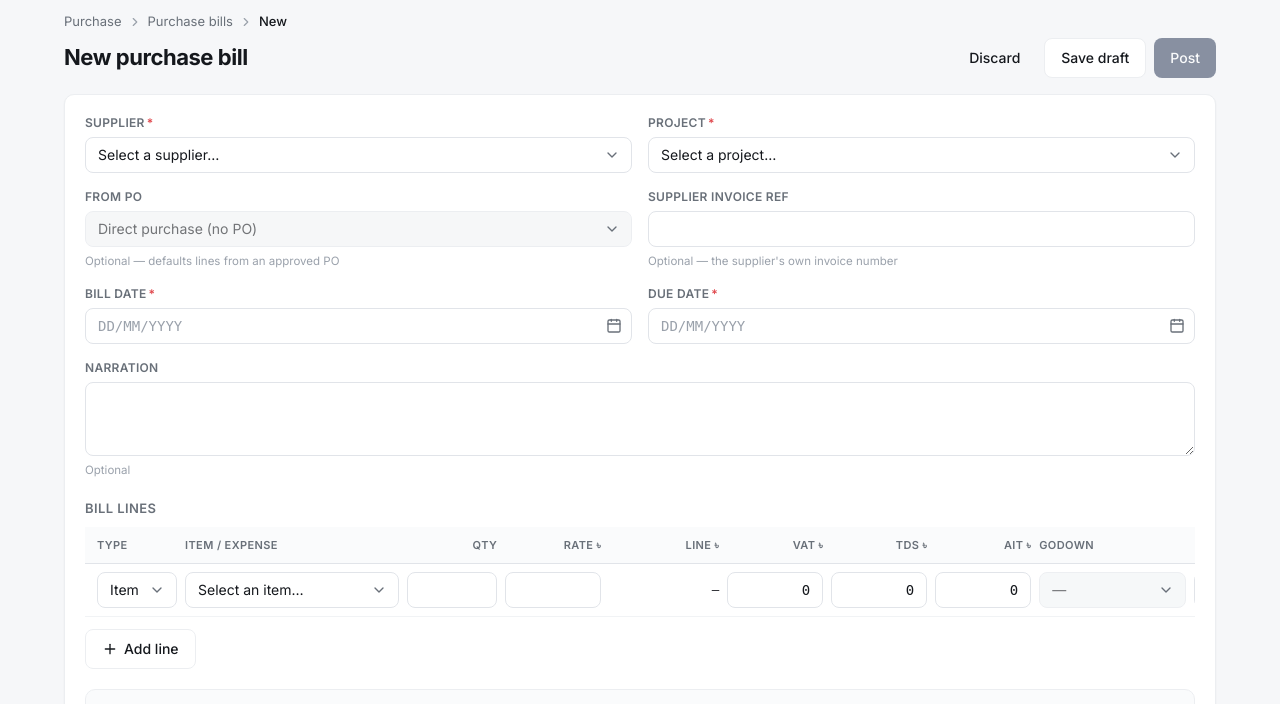
BillEditor (spec §4.editor/§6/§7; FR-PUR-004/-005/-007/-024) › validates required fields with the exact spec copy
Expected: the heading "New purchase bill" is shown, x1=64 y1=41 x2=248 y2=74
Click the button with test id "bill-save" at (1095, 58), box x1=1044 y1=38 x2=1146 y2=78
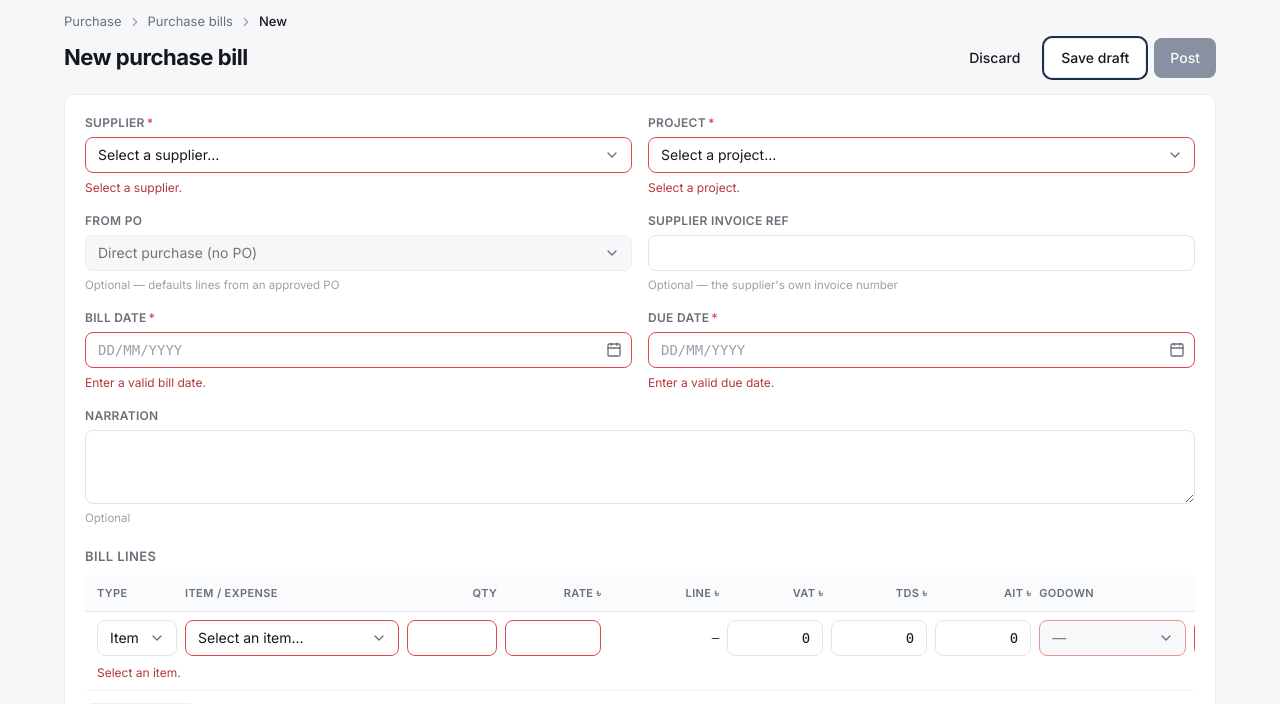
Expected: the text "Select a supplier." is shown, x1=85 y1=180 x2=182 y2=194
Expected: the text "Select a project." is shown, x1=648 y1=180 x2=740 y2=194
Expected: the text "Enter a valid bill date." is shown, x1=85 y1=375 x2=206 y2=390
